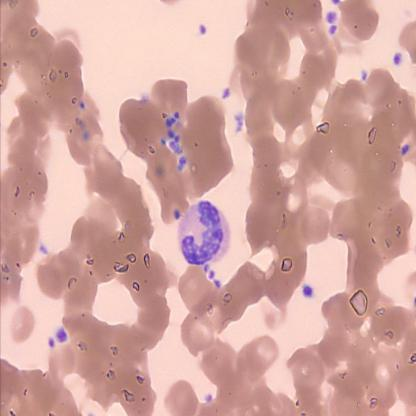Band Neutrophil: (175, 193, 234, 269)
